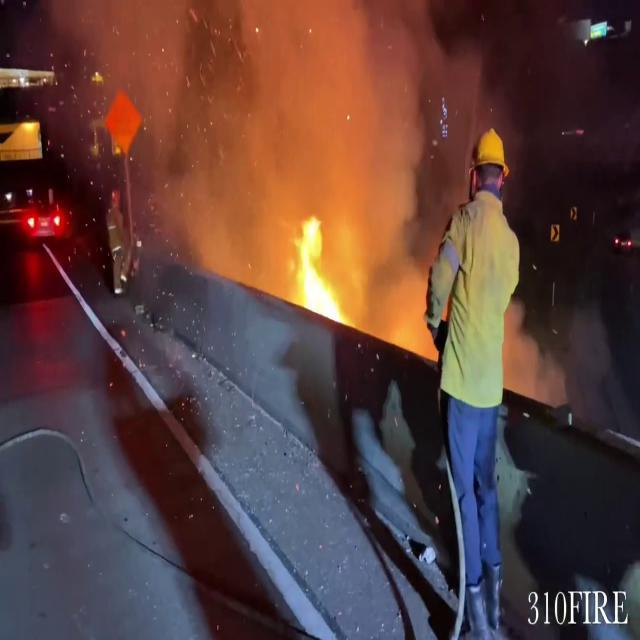Fire: (290, 211, 350, 325)
Smoke: (100, 1, 462, 258)
